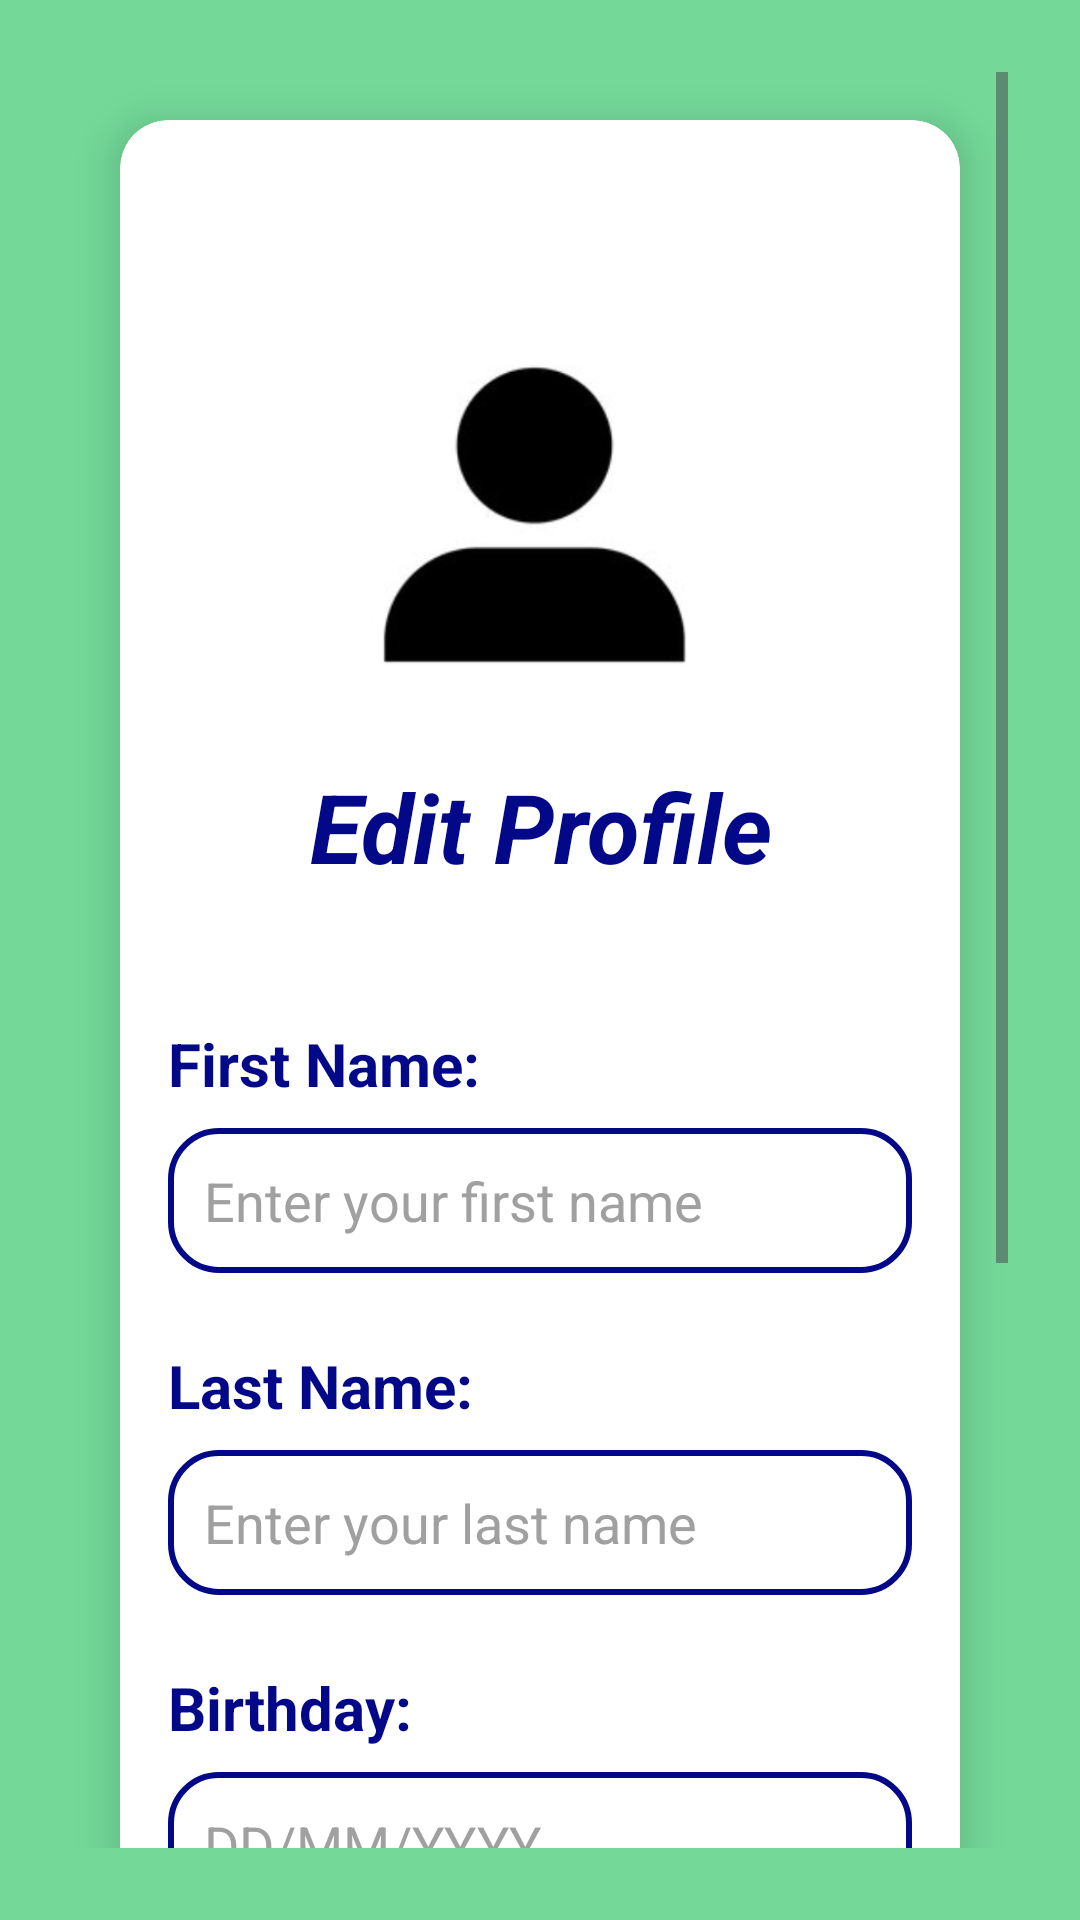

Icons on this 1080px×1920px Android screen, each with the point to tap as (x,y):
Default Profile Image: (534,515)
